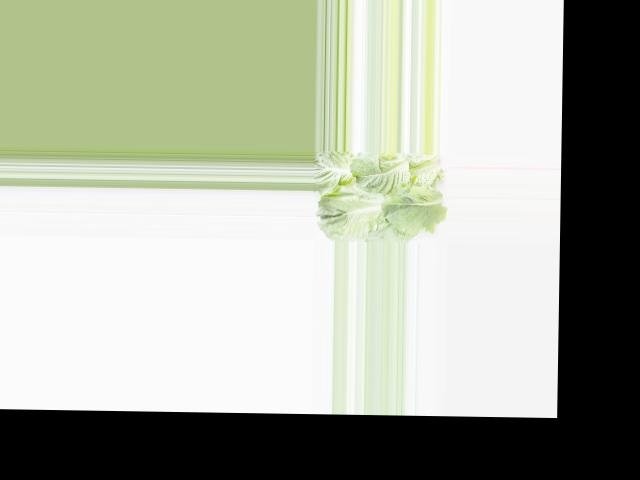lettuce: (316, 150, 444, 240)
